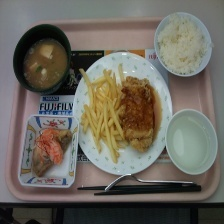rice: (155, 15, 209, 75)
